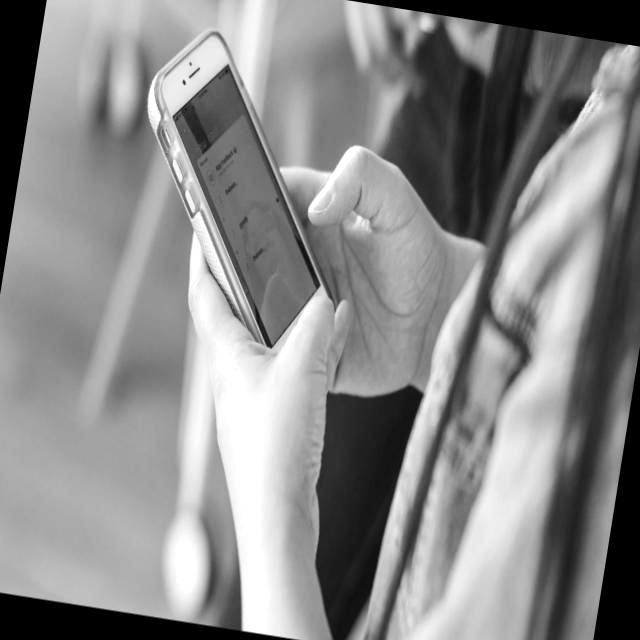phone: (110, 19, 376, 362)
